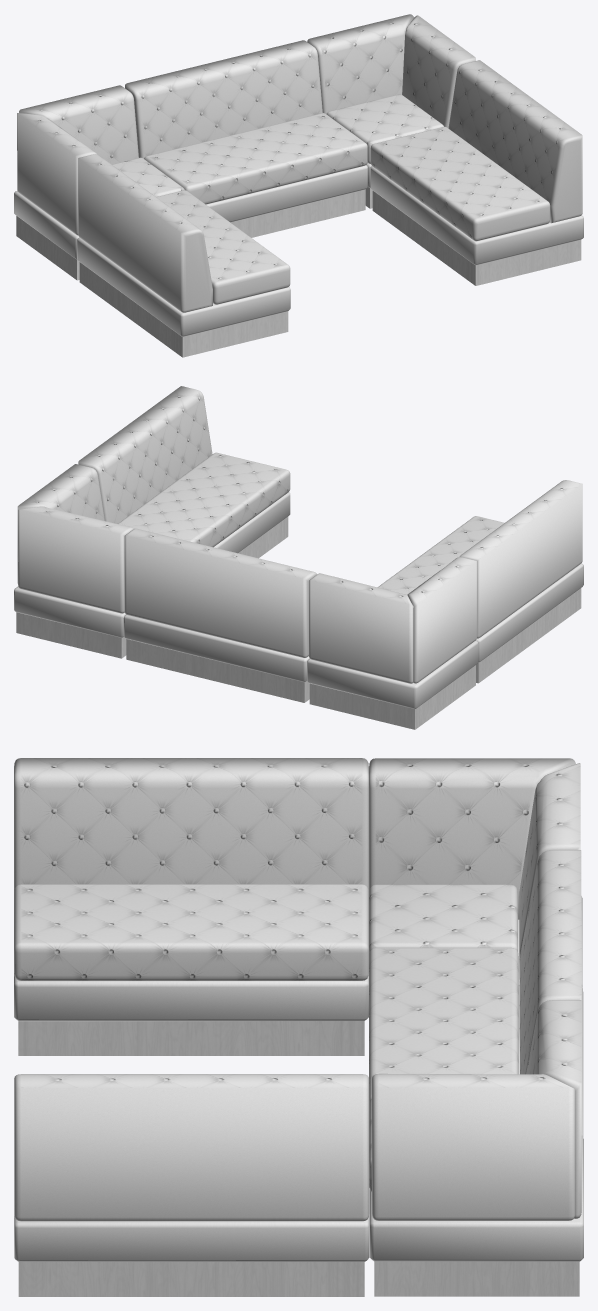
Rendered from Sofa03_4.FBX.
The picture shows the model from 3 angles, top to bottom: view 1: azimuth 30°, elevation 25°; view 2: azimuth 150°, elevation 25°; view 3: azimuth 270°, elevation 25°; orthographic projection. The views are drawn at different scales.
Visible parts, largest first — view 1: Sofa03_005, Sofa03_003, Sofa03_1, Sofa03_004, Sofa03_2; view 2: Sofa03_003, Sofa03_2, Sofa03_005, Sofa03_1, Sofa03_004; view 3: Sofa03_1, Sofa03_005, Sofa03_004, Sofa03_2, Sofa03_003.
Part boxes in pixels (left/top/right/bottom): Sofa03_005: left=370, top=60, right=583, bottom=285; Sofa03_003: left=125, top=40, right=367, bottom=237; Sofa03_1: left=77, top=154, right=290, bottom=357; Sofa03_004: left=307, top=14, right=475, bottom=208; Sofa03_2: left=14, top=85, right=184, bottom=280; Sofa03_003: left=123, top=528, right=316, bottom=702; Sofa03_2: left=307, top=557, right=478, bottom=729; Sofa03_005: left=78, top=386, right=290, bottom=558; Sofa03_1: left=377, top=480, right=583, bottom=683; Sofa03_004: left=14, top=464, right=133, bottom=658; Sofa03_1: left=14, top=758, right=368, bottom=1055; Sofa03_005: left=14, top=1074, right=369, bottom=1296; Sofa03_004: left=369, top=1000, right=583, bottom=1296; Sofa03_2: left=369, top=758, right=582, bottom=986; Sofa03_003: left=369, top=850, right=583, bottom=1136.
Size of the model in its own units: 400 by 118 by 291.
